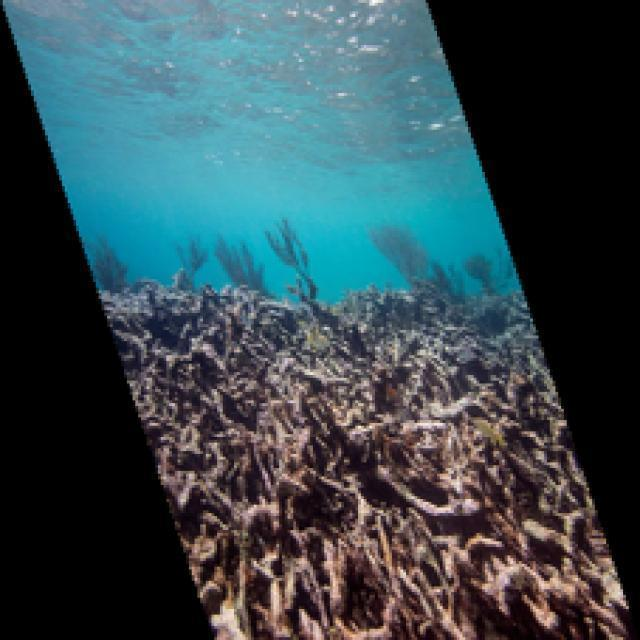Dead Coral: (230, 355, 502, 630), (127, 277, 376, 455)
